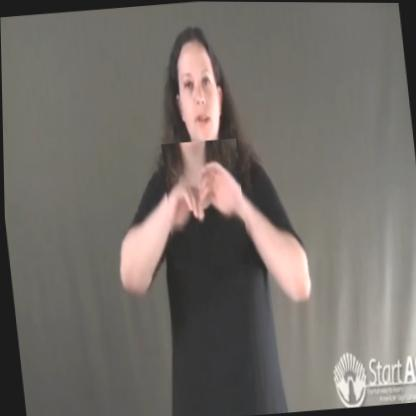HowAreYou: (161, 138, 248, 270)
